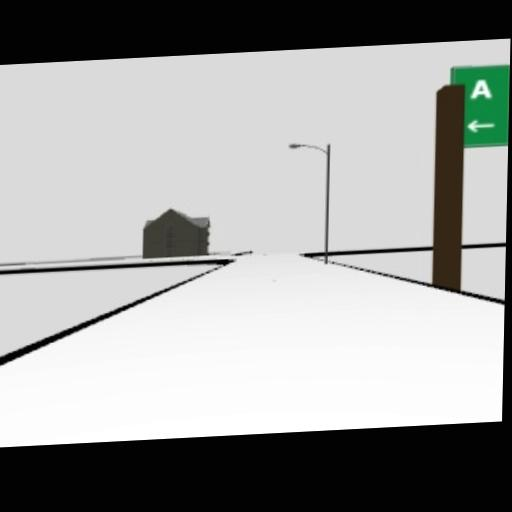A: (468, 77, 491, 99)
Left: (464, 118, 495, 132)
